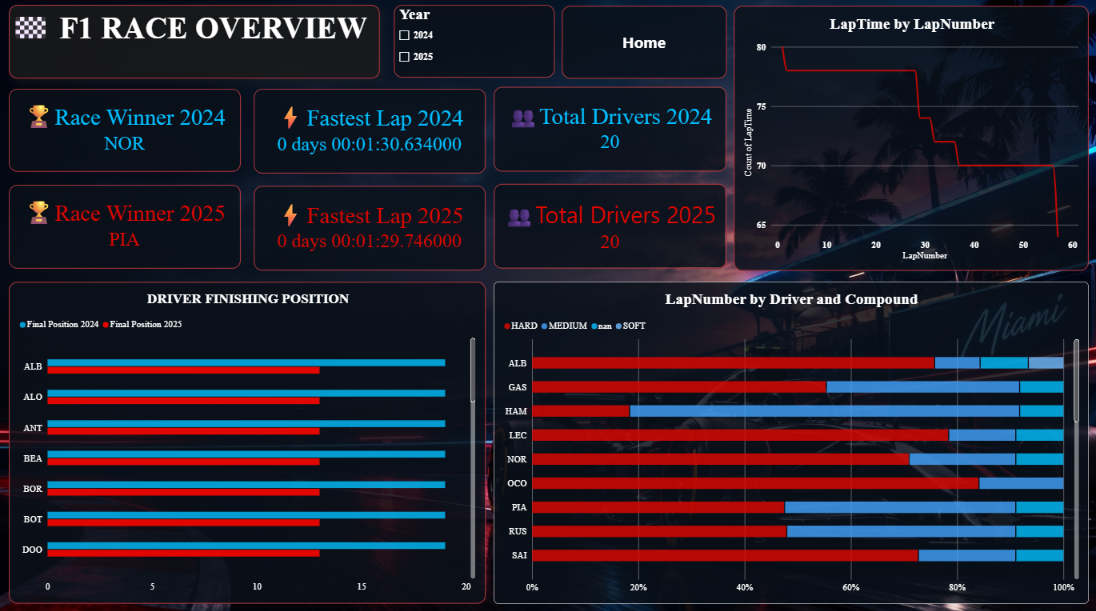

The page's visual inventory and layout, read from the dashboard file:
{"tool":"powerbi","page":{"name":"Overview","canvas":[1920,1080],"ordinal":1},"visuals":[{"type":"textbox","title":"🏁 F1 RACE OVERVIEW ","box":[20.9,14,647.1,129.1],"z":0},{"type":"slicer","fields":{"Values":["F1_Miami_Data.LapStartDate.Variation.Date Hierarchy.Year"]},"box":[692.4,14,280.8,127.3],"z":1000},{"type":"actionButton","box":[985.5,15.7,287.8,127.3],"z":2000},{"type":"cardVisual","fields":{"Data":["public f1_2024_miami_r.Race Winner 2024"]},"box":[20.9,160.5,404.7,144.8],"z":3000},{"type":"cardVisual","fields":{"Data":["public f1_2025_miami_r.Race Winner 2025"]},"box":[20.9,327.9,404.7,146.5],"z":4000},{"type":"cardVisual","fields":{"Data":["public f1_2024_miami_r.Fastest Lap 2024"]},"box":[448.3,160.5,404.7,148.3],"z":5000},{"type":"cardVisual","fields":{"Data":["public f1_2025_miami_r.Fastest Lap 2025"]},"box":[448.3,329.7,404.7,148.3],"z":6000},{"type":"cardVisual","fields":{"Data":["public f1_2024_miami_r.👥Total Drivers 2024"]},"box":[866.9,157,406.4,148.3],"z":7000},{"type":"cardVisual","fields":{"Data":["public f1_2025_miami_r.👥Total Drivers 2025"]},"box":[866.9,326.2,406.4,148.3],"z":8000},{"type":"clusteredBarChart","title":"DRIVER FINISHING POSITION","fields":{"Category":["F1_Miami_Data.Driver"],"Y":["public f1_2024_miami_r.Final Position 2024","public f1_2025_miami_r.Final Position 2025"]},"box":[20.9,497.1,832,561.6],"z":9000},{"type":"lineChart","fields":{"Category":["F1_Miami_Data.LapNumber"],"Y":["CountNonNull(F1_Miami_Data.LapTime)"]},"box":[1285.5,15.7,619.2,462.2],"z":10000},{"type":"hundredPercentStackedBarChart","fields":{"Category":["F1_Miami_Data.Driver"],"Series":["F1_Miami_Data.Compound"],"Y":["Sum(F1_Miami_Data.LapNumber)"]},"box":[866.9,497.1,1037.8,561.6],"z":11000}]}

Visuals, with their boxes in screenshot pixels (x1, y1, x2, y2), scaled from the page's 1920x1080 canvas onto the 1096x611 screenshot:
"🏁 F1 RACE OVERVIEW " textbox: x1=12 y1=8 x2=381 y2=81
slicer - F1_Miami_Data.LapStartDate.Variation.Date Hierarchy.Year: x1=395 y1=8 x2=556 y2=80
actionButton: x1=563 y1=9 x2=727 y2=81
cardVisual - public f1_2024_miami_r.Race Winner 2024: x1=12 y1=91 x2=243 y2=173
cardVisual - public f1_2025_miami_r.Race Winner 2025: x1=12 y1=186 x2=243 y2=268
cardVisual - public f1_2024_miami_r.Fastest Lap 2024: x1=256 y1=91 x2=487 y2=175
cardVisual - public f1_2025_miami_r.Fastest Lap 2025: x1=256 y1=187 x2=487 y2=270
cardVisual - public f1_2024_miami_r.👥Total Drivers 2024: x1=495 y1=89 x2=727 y2=173
cardVisual - public f1_2025_miami_r.👥Total Drivers 2025: x1=495 y1=185 x2=727 y2=268
"DRIVER FINISHING POSITION" clusteredBarChart: x1=12 y1=281 x2=487 y2=599
lineChart - F1_Miami_Data.LapNumber x CountNonNull(F1_Miami_Data.LapTime): x1=734 y1=9 x2=1087 y2=270
hundredPercentStackedBarChart - F1_Miami_Data.Driver x F1_Miami_Data.Compound: x1=495 y1=281 x2=1087 y2=599
